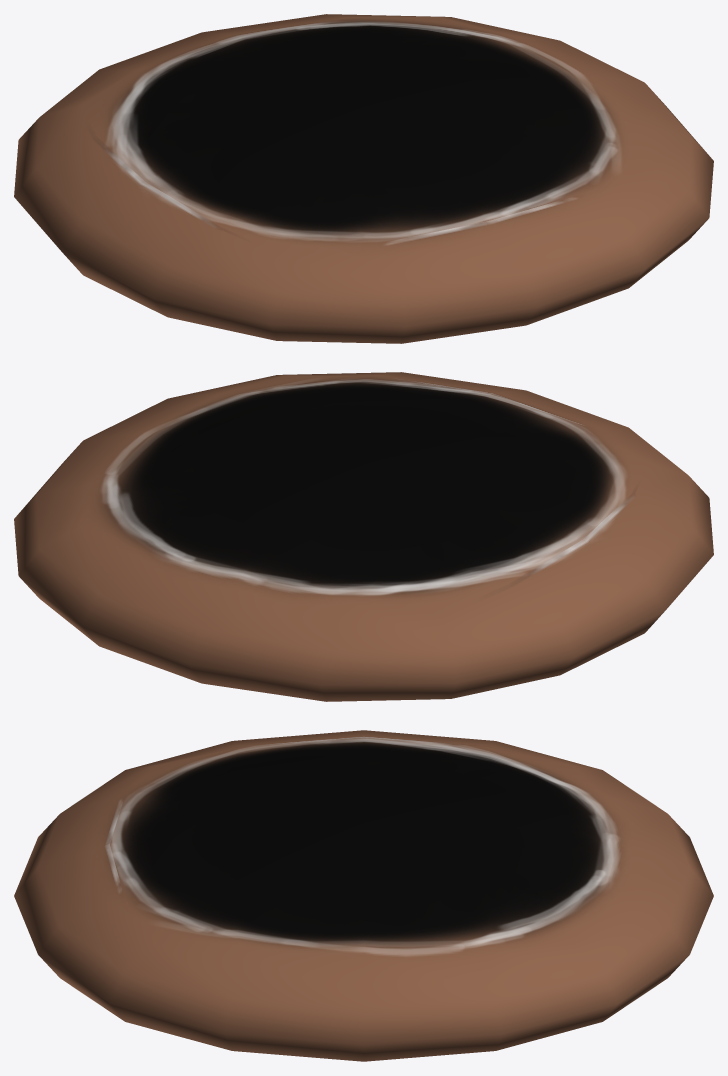
Rendered from trap.fbx.
3 renders of one model, top to bottom at view 1: azimuth 30°, elevation 25°; view 2: azimuth 150°, elevation 25°; view 3: azimuth 270°, elevation 25°, orthographic.
Parts seen in each view (by area): view 1: Cube; view 2: Cube; view 3: Cube.
Boxes of the visible parts, left/top/right/bottom form: Cube: left=14, top=14, right=713, bottom=343; Cube: left=14, top=372, right=713, bottom=701; Cube: left=14, top=730, right=713, bottom=1061.
Bounding box in the file's own units: 168 × 37.36 × 168.
